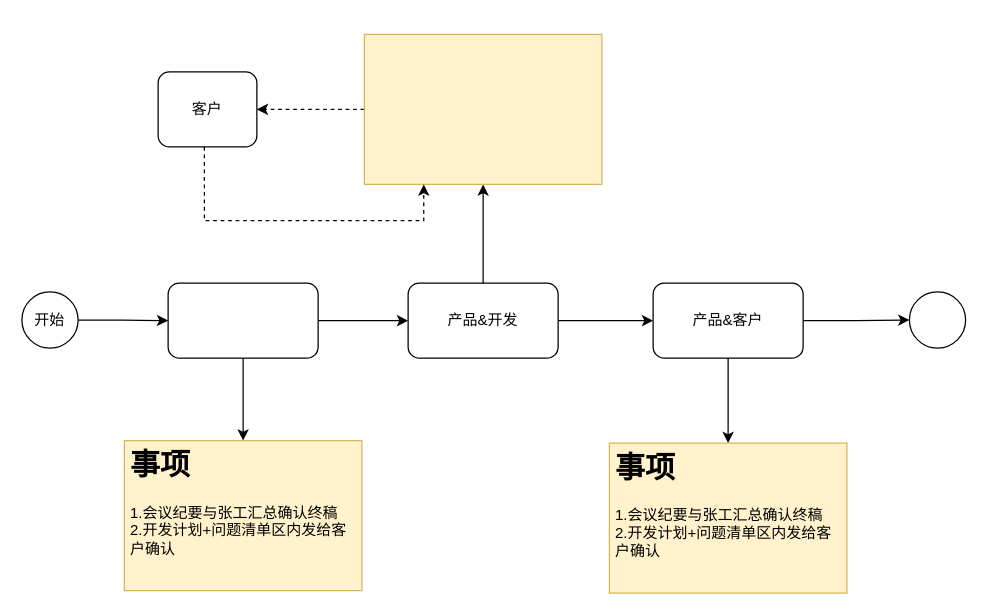
Image size: 988x615. Some labels were removed from this diagram. The shapes that lost their labels are listed below. From the top down, each one's centre as x and y in pixels, then its label:
At (x=482, y=108): "事项 1.会上开发提出的疑问及交互逻辑变更需及时与张工沟通确认，并将确认结果第一时间告知开发".
At (x=242, y=320): "客户&产品".
At (x=937, y=319): "结束".
